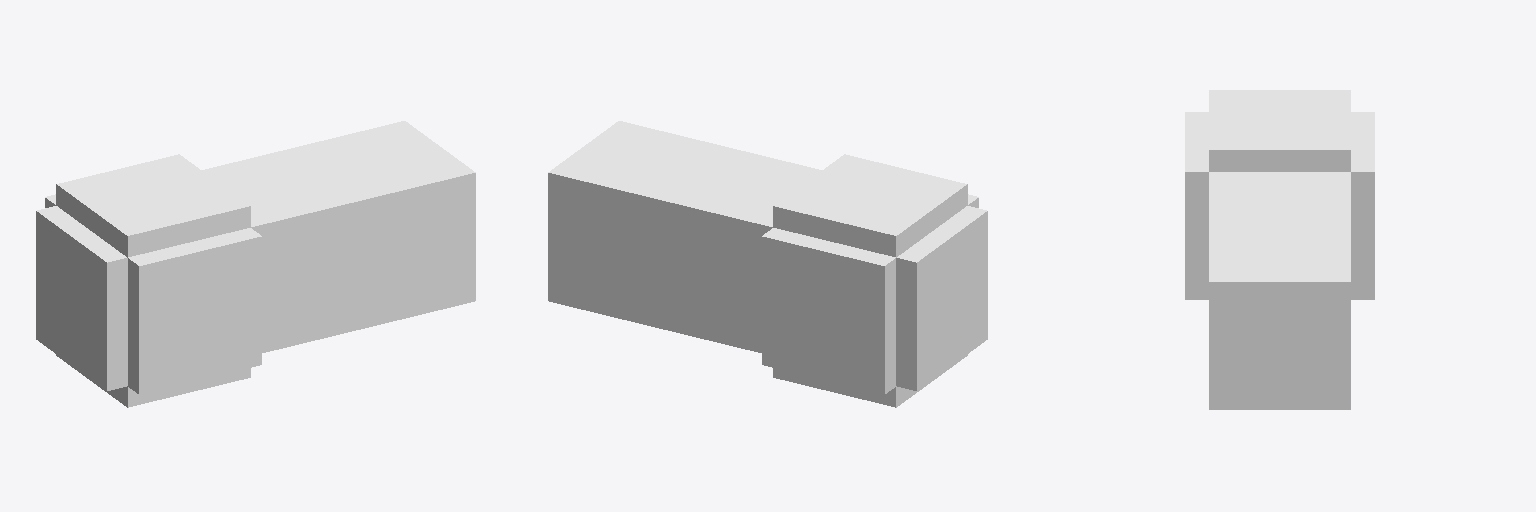
File: Left_Arm.obj
3 views of the same model, side by side, from view 1: azimuth 30°, elevation 25°; view 2: azimuth 150°, elevation 25°; view 3: azimuth 270°, elevation 25° (orthographic).
Visible parts, largest first — view 1: object 1; view 2: object 1; view 3: object 1.
Boxes of the visible parts, x1=… form: object 1: x1=36, y1=121, x2=475, y2=407; object 1: x1=548, y1=121, x2=987, y2=407; object 1: x1=1185, y1=90, x2=1374, y2=409.
Size of the model in its own units: 1.8 by 0.8 by 0.8.